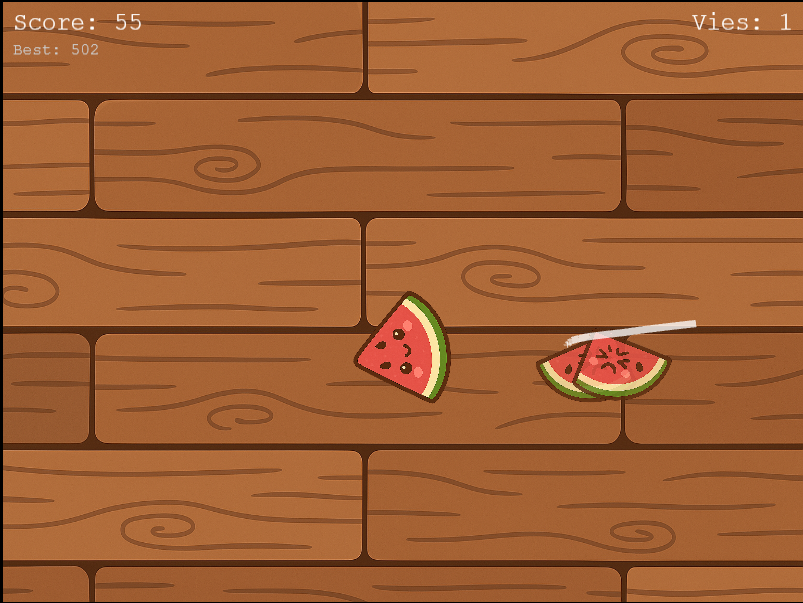fruit: (350, 287, 458, 407)
